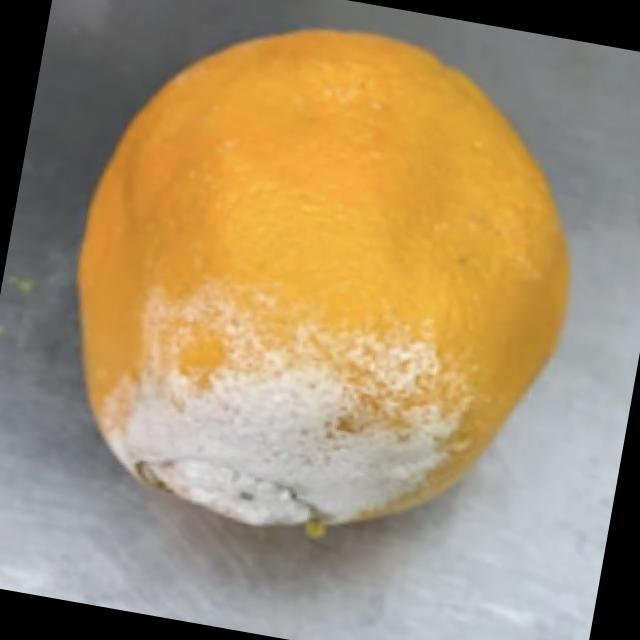rotten-orange: (34, 0, 610, 575)
